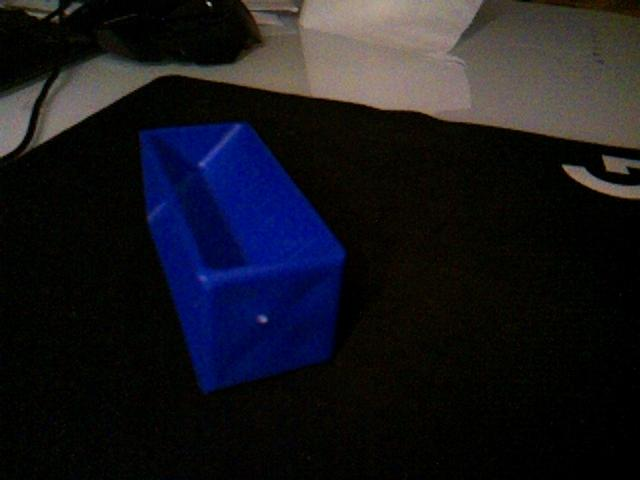blue: (136, 119, 348, 395)
